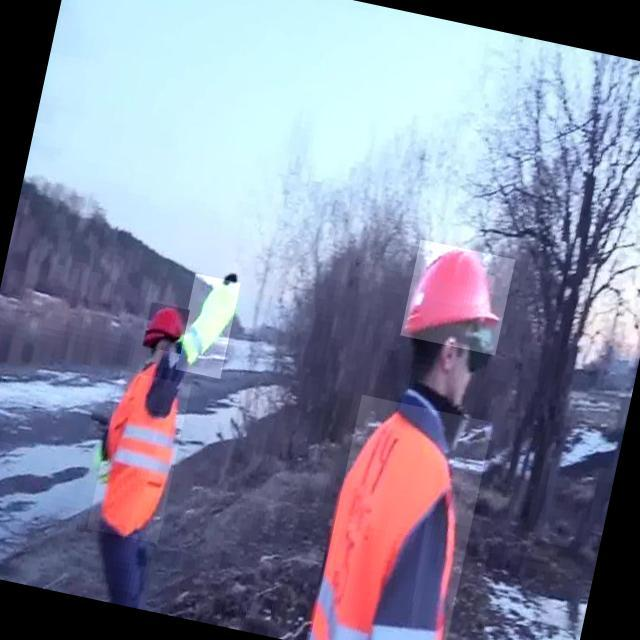Helmet: (400, 239, 515, 355), (143, 302, 191, 354)
Person: (291, 193, 550, 640), (58, 228, 266, 640)
Safety Vest: (309, 394, 492, 640), (87, 371, 191, 544), (175, 273, 240, 378)
